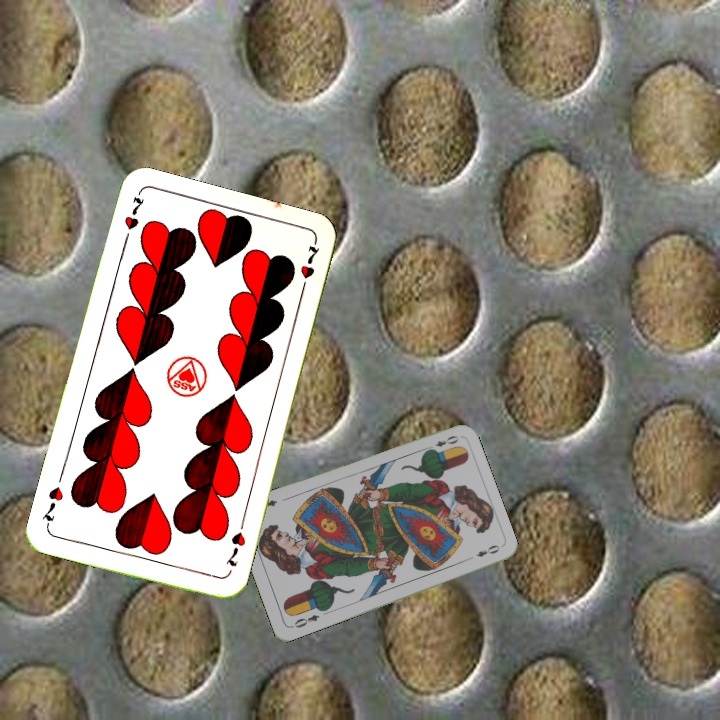EO: (422, 431, 461, 454), (287, 610, 322, 630)
H7: (119, 190, 147, 248), (221, 527, 248, 569)
